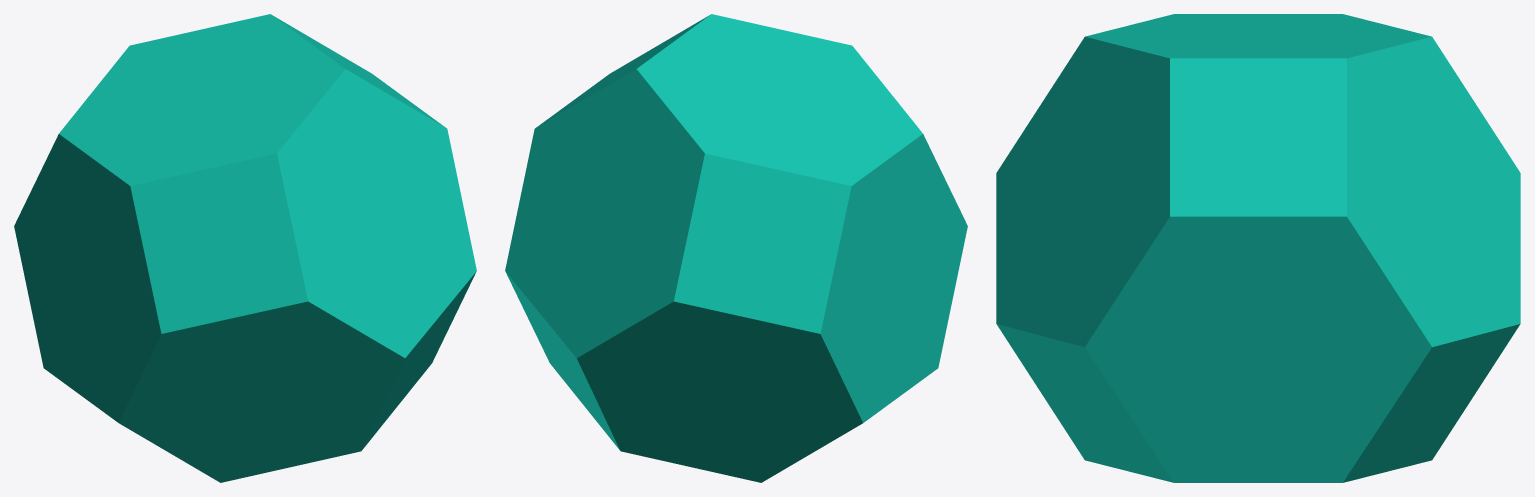
File: BlueShape.gltf
3 renders of one model, left to right at view 1: azimuth 30°, elevation 25°; view 2: azimuth 150°, elevation 25°; view 3: azimuth 270°, elevation 25°, orthographic. The views are drawn at different scales.
Parts seen in each view (by area): view 1: Cube.002_Cube.000; view 2: Cube.002_Cube.000; view 3: Cube.002_Cube.000.
Part boxes in pixels (box(x1,y1,x2,y2)): Cube.002_Cube.000: box(14, 14, 476, 482); Cube.002_Cube.000: box(505, 14, 967, 482); Cube.002_Cube.000: box(996, 14, 1520, 482).
Size of the model in its own units: 1.69 by 1.89 by 1.99.
1 material, 1 textured.
